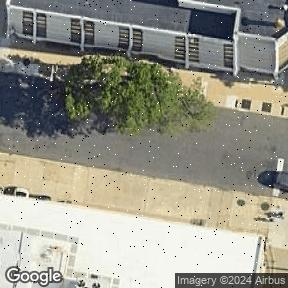vegetation: (58, 52, 218, 145)
